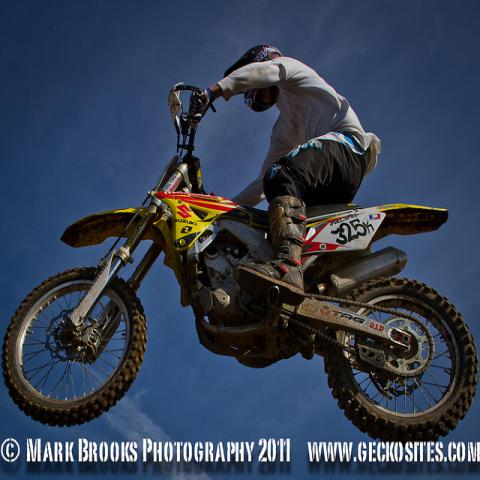motorcycle: (4, 81, 480, 448), (101, 208, 140, 215)
